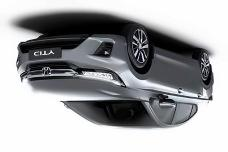Car hood: (23, 76, 142, 103)
Driver-s door - -F-R-: (142, 41, 188, 130)
Fender - -F-R-: (125, 41, 157, 101)
Front bumper: (15, 33, 133, 77)
Headlight - -R-: (80, 68, 125, 88)
Passenger-s door - -R-R-: (165, 55, 205, 130)
Side mirror - -R-: (156, 93, 175, 109)
